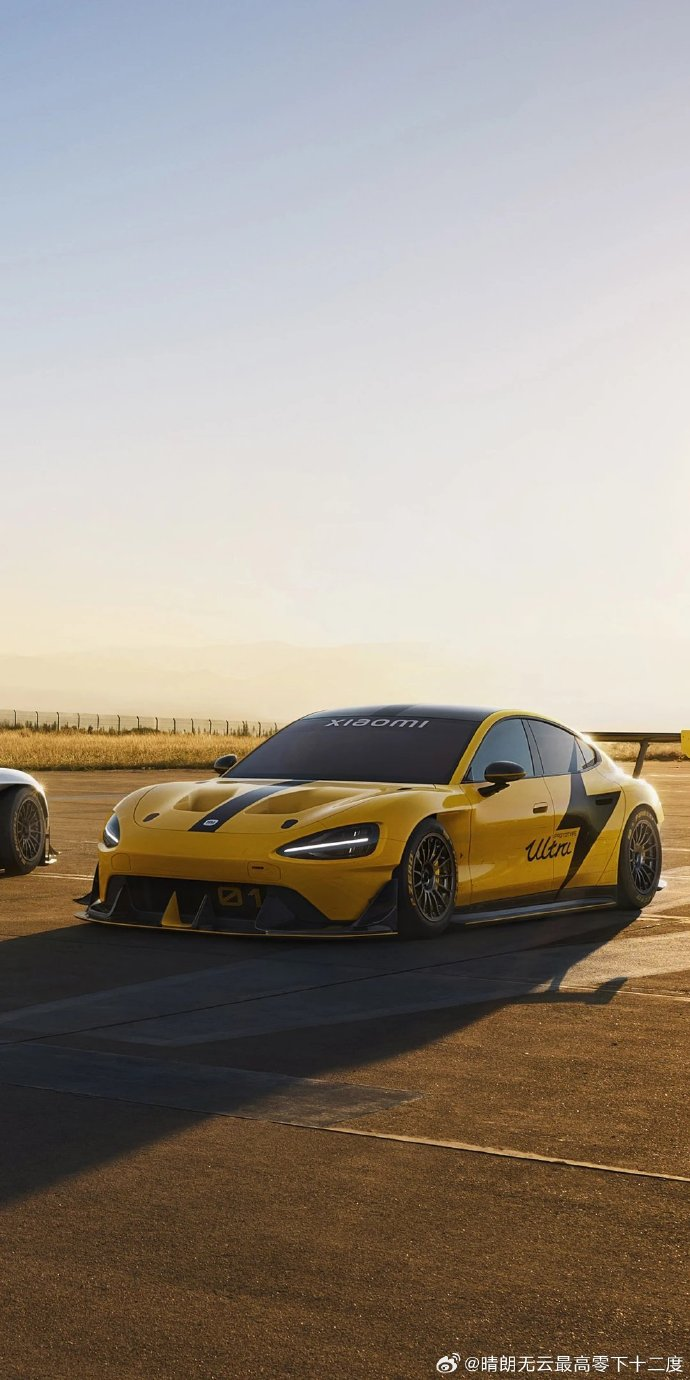su7: (85, 660, 674, 948)
